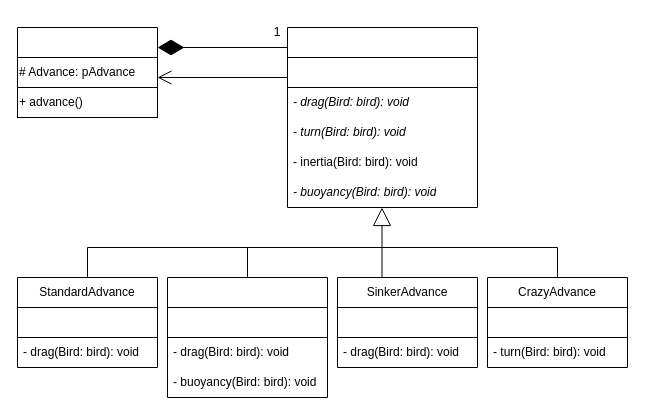
The diagram is 645 pixels wide and 415 high, and some of its shapes have lost their labels. The shapes that lost their labels are listed below. From the top down, each one's box as (x1, y1, x2, y2) in pixels, then its label:
(16, 26, 158, 118): Bird
(286, 26, 478, 208): Advance
(166, 276, 328, 398): FloaterAdvance
